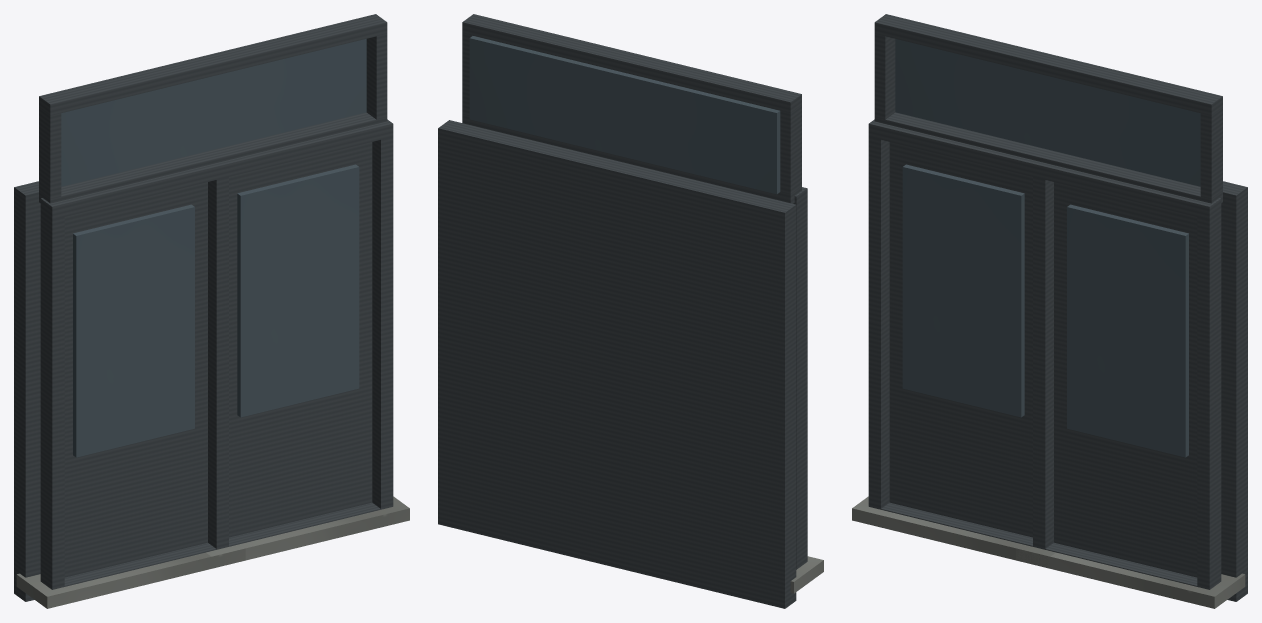
File: door-double-storefront.lod1.gltf
3 renders of one model, left to right at view 1: azimuth 30°, elevation 25°; view 2: azimuth 150°, elevation 25°; view 3: azimuth 330°, elevation 25°, orthographic. The views are drawn at different scales.
Parts seen in each view (by area): view 1: door-double-storefront; view 2: door-double-storefront; view 3: door-double-storefront.
Boxes of the visible parts, x1,y1,x2,y2 form: door-double-storefront: (14,14,409,608); door-double-storefront: (438,14,823,608); door-double-storefront: (852,14,1247,608).
Size of the model in its own units: 2.18 by 2.91 by 0.38.
3 materials, 3 textured.
